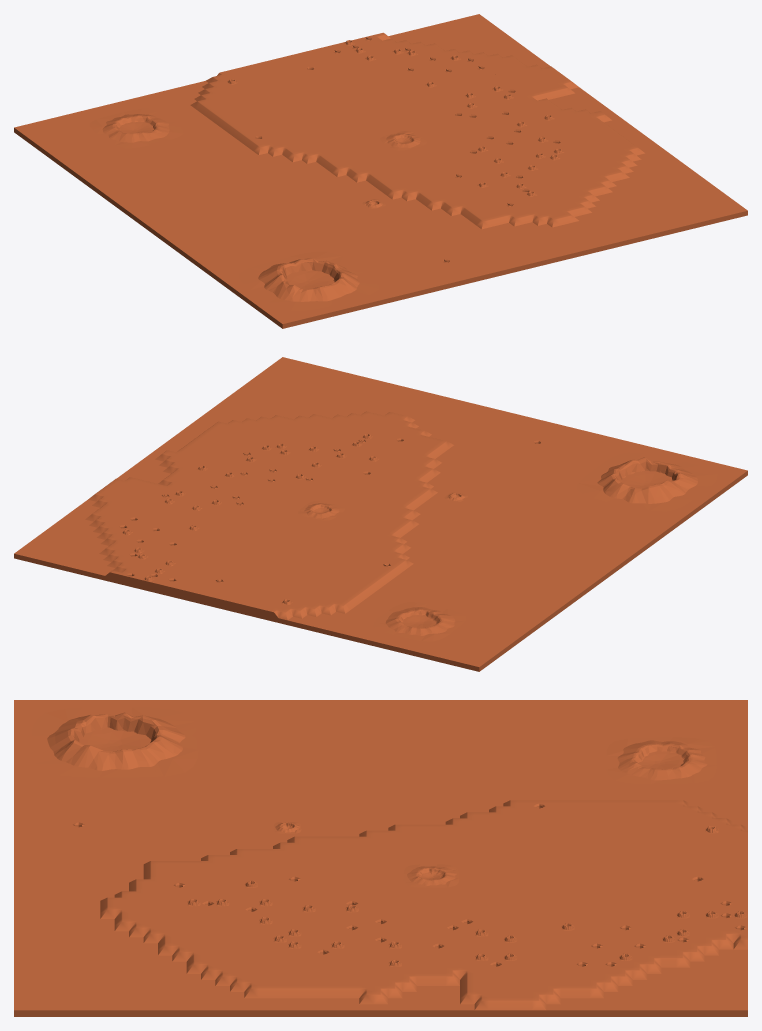
The model's file is Terrain_grid_1.fbx.
3 renders of one model, top to bottom at view 1: azimuth 30°, elevation 25°; view 2: azimuth 150°, elevation 25°; view 3: azimuth 270°, elevation 25°, orthographic. The views are drawn at different scales.
Parts seen in each view (by area): view 1: Crater.011, Crater.009, Crater.008; view 2: Crater.011, Crater.009, Crater.008; view 3: Crater.011, Crater.009, Crater.008.
Part boxes in pixels (bbox=[...]): Crater.011: bbox=[223, 245, 395, 317]; Crater.009: bbox=[80, 104, 193, 152]; Crater.008: bbox=[375, 128, 431, 152]; Crater.011: bbox=[561, 445, 733, 518]; Crater.009: bbox=[362, 597, 476, 645]; Crater.008: bbox=[293, 498, 349, 522]; Crater.011: bbox=[28, 706, 200, 779]; Crater.009: bbox=[604, 736, 719, 785]; Crater.008: bbox=[402, 864, 459, 888].
Size of the model in its own units: 10200 by 407 by 10200.
